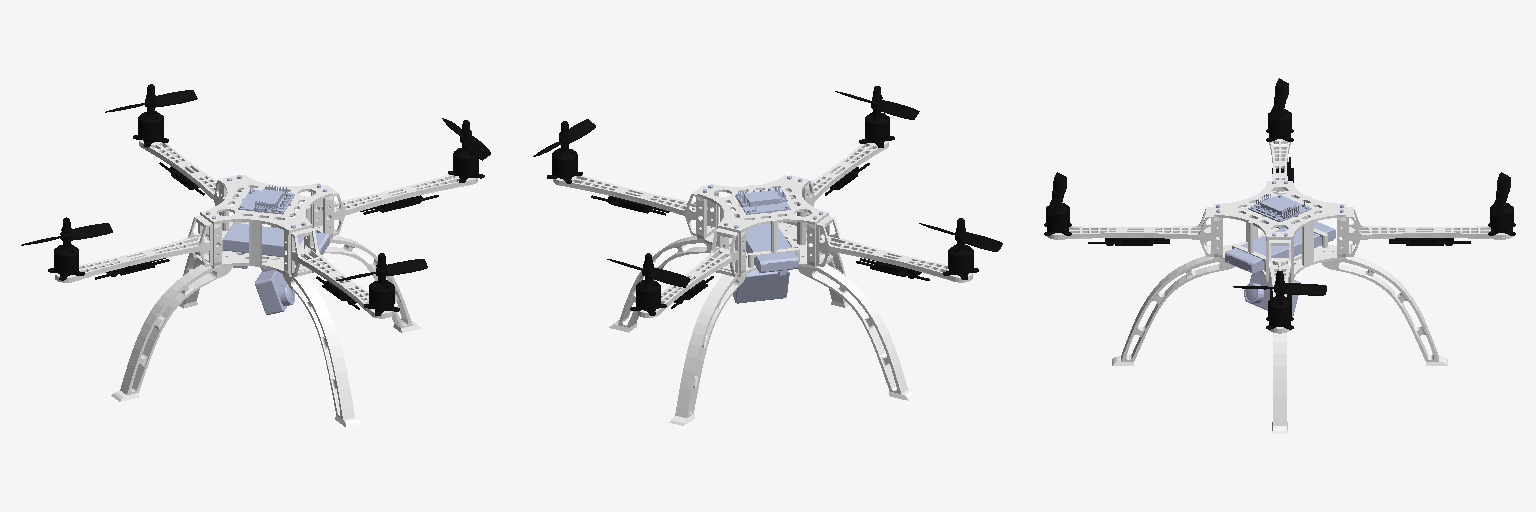
robot.urdf — Quadcopter2:
<?xml version="1.0" encoding="utf-8"?>
<!-- This URDF was automatically created by SolidWorks to URDF Exporter! Originally created by [author] ([email redacted]) 
     Commit Version: 1.6.0-4-g7f85cfe  Build Version: 1.6.7995.38578
     For more information, please see http://wiki.ros.org/sw_urdf_exporter -->
<robot
  name="Quadcopter2">
  <link
    name="base_link">
    <inertial>
      <origin
        xyz="0.13640905917034 -0.217222436490946 0.123060448114209"
        rpy="0 0 0" />
      <mass
        value="0.0894586534757514" />
      <inertia
        ixx="0.000162149402298952"
        ixy="-1.53380157496662E-06"
        ixz="6.88874830819228E-08"
        iyy="0.000158088501978041"
        iyz="6.69606696754448E-08"
        izz="0.00021865472313511" />
    </inertial>
    <visual>
      <origin
        xyz="0 0 0"
        rpy="0 0 0" />
      <geometry>
        <mesh
          filename="ros_ws/src/test_pkg/Quadcopter2/meshes/base_link.STL" />
      </geometry>
      <material
        name="">
        <color
          rgba="1 1 1 1" />
      </material>
    </visual>
    <collision>
      <origin
        xyz="0 0 0"
        rpy="0 0 0" />
      <geometry>
        <mesh
          filename="ros_ws/src/test_pkg/Quadcopter2/meshes/base_link.STL" />
      </geometry>
    </collision>
  </link>
  <link
    name="Legs_Link">
    <inertial>
      <origin
        xyz="0.0477118456577427 0.00750000000000001 0.0428943381863407"
        rpy="0 0 0" />
      <mass
        value="0.0987841599646559" />
      <inertia
        ixx="0.000280540963508419"
        ixy="3.16370631509814E-19"
        ixz="1.22707849475237E-19"
        iyy="0.000280540963508419"
        iyz="-4.06575814682064E-20"
        izz="0.000165340081126289" />
    </inertial>
    <visual>
      <origin
        xyz="0 0 0"
        rpy="0 0 0" />
      <geometry>
        <mesh
          filename="ros_ws/src/test_pkg/Quadcopter2/meshes/Legs_Link.STL" />
      </geometry>
      <material
        name="">
        <color
          rgba="1 1 1 1" />
      </material>
    </visual>
    <collision>
      <origin
        xyz="0 0 0"
        rpy="0 0 0" />
      <geometry>
        <mesh
          filename="ros_ws/src/test_pkg/Quadcopter2/meshes/Legs_Link.STL" />
      </geometry>
    </collision>
  </link>
  <joint
    name="Leg"
    type="fixed">
    <origin
      xyz="0.143886210208607 -0.169532540817505 0.0836298674340286"
      rpy="3.14159265358979 0 -1.5707963267949" />
    <parent
      link="base_link" />
    <child
      link="Legs_Link" />
    <axis
      xyz="0 0 0" />
  </joint>
  <link
    name="Arms_Link">
    <inertial>
      <origin
        xyz="0.251499999996342 0.0015222573280998 1.1002115885006E-11"
        rpy="0 0 0" />
      <mass
        value="0.084599580811402" />
      <inertia
        ixx="0.000193767490142072"
        ixy="9.11254235424197E-19"
        ixz="5.27925816162523E-18"
        iyy="0.00036744469350659"
        iyz="1.0498179287829E-18"
        izz="0.000193767490142072" />
    </inertial>
    <visual>
      <origin
        xyz="0 0 0"
        rpy="0 0 0" />
      <geometry>
        <mesh
          filename="ros_ws/src/test_pkg/Quadcopter2/meshes/Arms_Link.STL" />
      </geometry>
      <material
        name="">
        <color
          rgba="1 1 1 1" />
      </material>
    </visual>
    <collision>
      <origin
        xyz="0 0 0"
        rpy="0 0 0" />
      <geometry>
        <mesh
          filename="ros_ws/src/test_pkg/Quadcopter2/meshes/Arms_Link.STL" />
      </geometry>
    </collision>
  </link>
  <joint
    name="Arm"
    type="fixed">
    <origin
      xyz="0.136386210201276 -0.468744386475247 0.123636460553521"
      rpy="1.5707963267949 0 1.5707963267949" />
    <parent
      link="base_link" />
    <child
      link="Arms_Link" />
    <axis
      xyz="0 0 0" />
  </joint>
  <link
    name="ElectArm_Link">
    <inertial>
      <origin
        xyz="0.165923424713826 0.0274672026801921 -0.000194951075126848"
        rpy="0 0 0" />
      <mass
        value="0.1215806049268" />
      <inertia
        ixx="1.86279295691974E-05"
        ixy="-8.74727003474797E-11"
        ixz="5.96945738527189E-07"
        iyy="2.8059956083601E-05"
        iyz="-3.79565857036865E-10"
        izz="1.23499945145109E-05" />
    </inertial>
    <visual>
      <origin
        xyz="0 0 0"
        rpy="0 0 0" />
      <geometry>
        <mesh
          filename="ros_ws/src/test_pkg/Quadcopter2/meshes/ElectArm_Link.STL" />
      </geometry>
      <material
        name="">
        <color
          rgba="0.0980392156862745 0.0980392156862745 0.0980392156862745 1" />
      </material>
    </visual>
    <collision>
      <origin
        xyz="0 0 0"
        rpy="0 0 0" />
      <geometry>
        <mesh
          filename="ros_ws/src/test_pkg/Quadcopter2/meshes/ElectArm_Link.STL" />
      </geometry>
    </collision>
  </link>
  <joint
    name="ElectronicsArm"
    type="fixed">
    <origin
      xyz="0.0857166327680799 -0.01 -0.000325177758569134"
      rpy="0 0 0" />
    <parent
      link="Arms_Link" />
    <child
      link="ElectArm_Link" />
    <axis
      xyz="0 0 0" />
  </joint>
  <link
    name="ElecBody_Link">
    <inertial>
      <origin
        xyz="-0.000789905685977962 -0.0574146963325876 0.00201061146370812"
        rpy="0 0 0" />
      <mass
        value="0.177865321801127" />
      <inertia
        ixx="0.000138523440207294"
        ixy="-1.95193148165041E-07"
        ixz="8.52017468279674E-07"
        iyy="0.000162735416196156"
        iyz="2.11257576480694E-06"
        izz="4.22168764810173E-05" />
    </inertial>
    <visual>
      <origin
        xyz="0 0 0"
        rpy="0 0 0" />
      <geometry>
        <mesh
          filename="ros_ws/src/test_pkg/Quadcopter2/meshes/ElecBody_Link.STL" />
      </geometry>
      <material
        name="">
        <color
          rgba="0.792156862745098 0.819607843137255 0.933333333333333 1" />
      </material>
    </visual>
    <collision>
      <origin
        xyz="0 0 0"
        rpy="0 0 0" />
      <geometry>
        <mesh
          filename="package://Quadcopter2/meshes/ElecBody_Link.STL" />
      </geometry>
    </collision>
  </link>
  <joint
    name="ElectronicsBody"
    type="fixed">
    <origin
      xyz="0.136386210208607 -0.21724438799756 0.155136460553521"
      rpy="1.5707963267949 0 0.785398163397448" />
    <parent
      link="base_link" />
    <child
      link="ElecBody_Link" />
    <axis
      xyz="0 0 0" />
  </joint>
  <link
    name="Screws_Link">
    <inertial>
      <origin
        xyz="0.0710919486582187 -0.00540785192354507 0.0652367237857738"
        rpy="0 0 0" />
      <mass
        value="0.0014858673002492" />
      <inertia
        ixx="1.82030965171414E-08"
        ixy="-1.3136473825989E-10"
        ixz="1.75073141407986E-12"
        iyy="1.82025914228029E-08"
        iyz="2.50246951821774E-12"
        izz="4.98734607350765E-09" />
    </inertial>
    <visual>
      <origin
        xyz="0 0 0"
        rpy="0 0 0" />
      <geometry>
        <mesh
          filename="ros_ws/src/test_pkg/Quadcopter2/meshes/Screws_Link.STL" />
      </geometry>
      <material
        name="">
        <color
          rgba="0.792156862745098 0.819607843137255 0.933333333333333 1" />
      </material>
    </visual>
    <collision>
      <origin
        xyz="0 0 0"
        rpy="0 0 0" />
      <geometry>
        <mesh
          filename="ros_ws/src/test_pkg/Quadcopter2/meshes/Screws_Link.STL" />
      </geometry>
    </collision>
  </link>
  <joint
    name="Screws"
    type="fixed">
    <origin
      xyz="0.0663862102086067 -0.210744386475248 0.0772988670677804"
      rpy="0 0 0" />
    <parent
      link="base_link" />
    <child
      link="Screws_Link" />
    <axis
      xyz="0 0 1" />
  </joint>
</robot>

--- Facts derived from the render (not from the file) ---
3 views of the same robot in one strip: view 1: azimuth 30°, elevation 25°; view 2: azimuth 150°, elevation 25°; view 3: azimuth 270°, elevation 25° (orthographic).
Model Quadcopter2 with 6 links and 5 joints (5 fixed), rooted at base_link, posed all joints at 0.
Visible links, largest first — view 1: Arms_Link, Legs_Link, ElectArm_Link, base_link, ElecBody_Link; view 2: Arms_Link, Legs_Link, ElectArm_Link, base_link, ElecBody_Link; view 3: ElectArm_Link, Arms_Link, Legs_Link, base_link, ElecBody_Link.
Link boxes in pixels (left/top/right/bottom): Arms_Link: left=55, top=140, right=477, bottom=318; Legs_Link: left=111, top=236, right=421, bottom=427; ElectArm_Link: left=21, top=84, right=490, bottom=315; base_link: left=200, top=175, right=332, bottom=276; ElecBody_Link: left=205, top=185, right=329, bottom=314; Arms_Link: left=553, top=141, right=972, bottom=317; Legs_Link: left=609, top=229, right=916, bottom=425; ElectArm_Link: left=533, top=86, right=1002, bottom=315; base_link: left=697, top=175, right=828, bottom=276; ElecBody_Link: left=733, top=186, right=798, bottom=303; ElectArm_Link: left=1044, top=78, right=1515, bottom=329; Arms_Link: left=1047, top=139, right=1512, bottom=333; Legs_Link: left=1112, top=256, right=1447, bottom=433; base_link: left=1214, top=181, right=1345, bottom=281; ElecBody_Link: left=1225, top=194, right=1335, bottom=315.
Size in the robot's own frame: 0.5719 by 0.5339 by 0.2322 metres.
Meshes: 6 distinct files referenced, 6 mesh visuals loaded (6 binary STL).